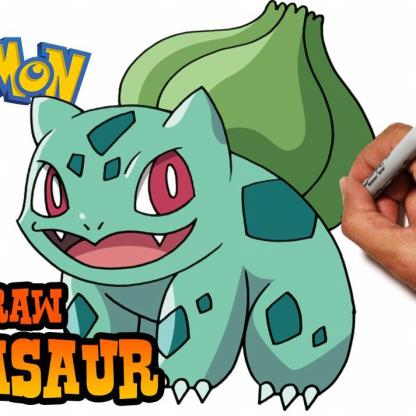Bulbasaur: (1, 1, 380, 416)
